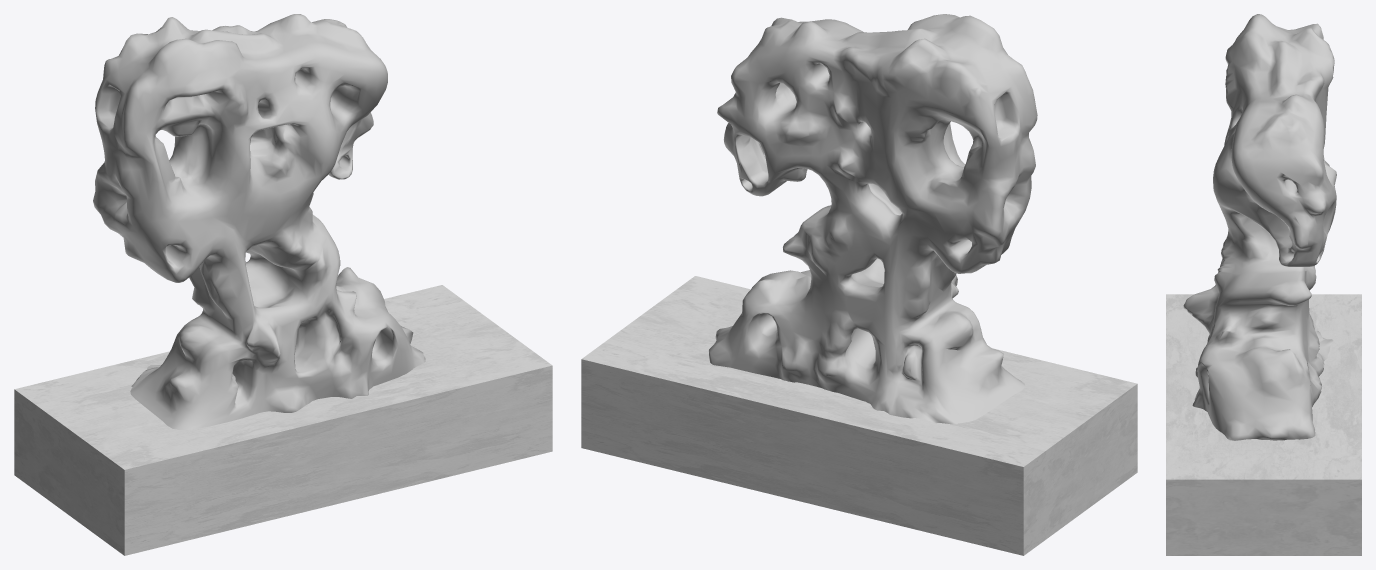
File: 太湖石.FBX
3 views of the same model, side by side, from view 1: azimuth 30°, elevation 25°; view 2: azimuth 150°, elevation 25°; view 3: azimuth 270°, elevation 25° (orthographic). The views are drawn at different scales.
Visible parts, largest first — view 1: Obj3d66-761551-2-412, Box001; view 2: Obj3d66-761551-2-412, Box001; view 3: Obj3d66-761551-2-412, Box001.
Boxes of the visible parts, left/top/right/bottom form: Obj3d66-761551-2-412: left=93, top=14, right=425, bottom=429; Box001: left=14, top=285, right=552, bottom=555; Obj3d66-761551-2-412: left=709, top=14, right=1037, bottom=424; Box001: left=581, top=276, right=1137, bottom=555; Obj3d66-761551-2-412: left=1183, top=14, right=1336, bottom=440; Box001: left=1166, top=294, right=1361, bottom=555.
Size of the model in its own units: 19.89 by 20.05 by 8.87.
